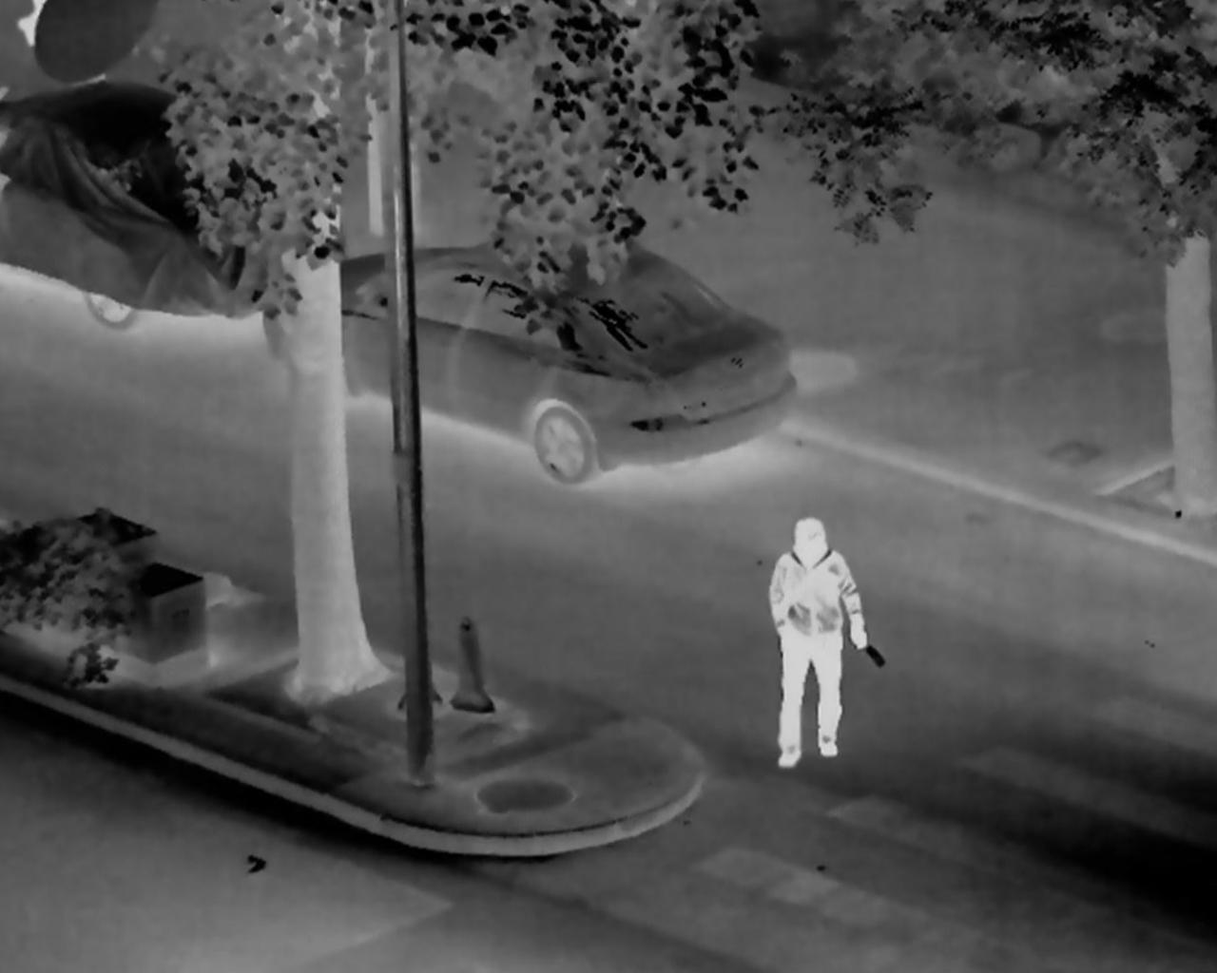person: (765, 518, 865, 771)
